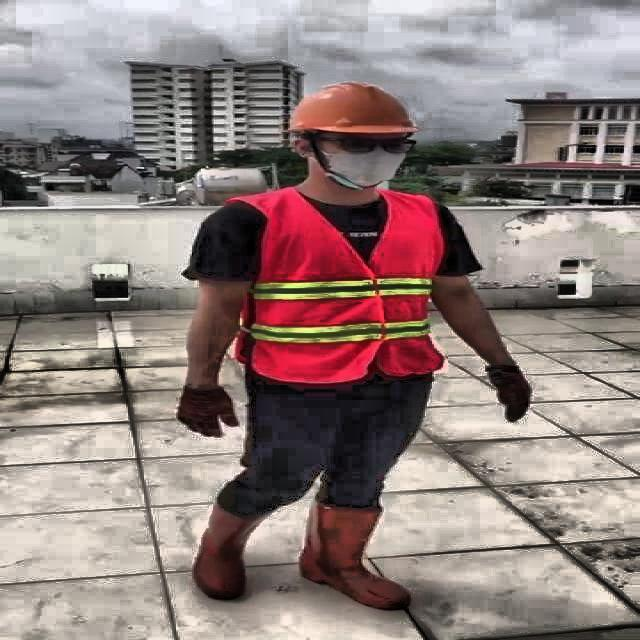safety_helmet: (284, 79, 422, 140)
safety_jacket: (243, 192, 442, 382)
